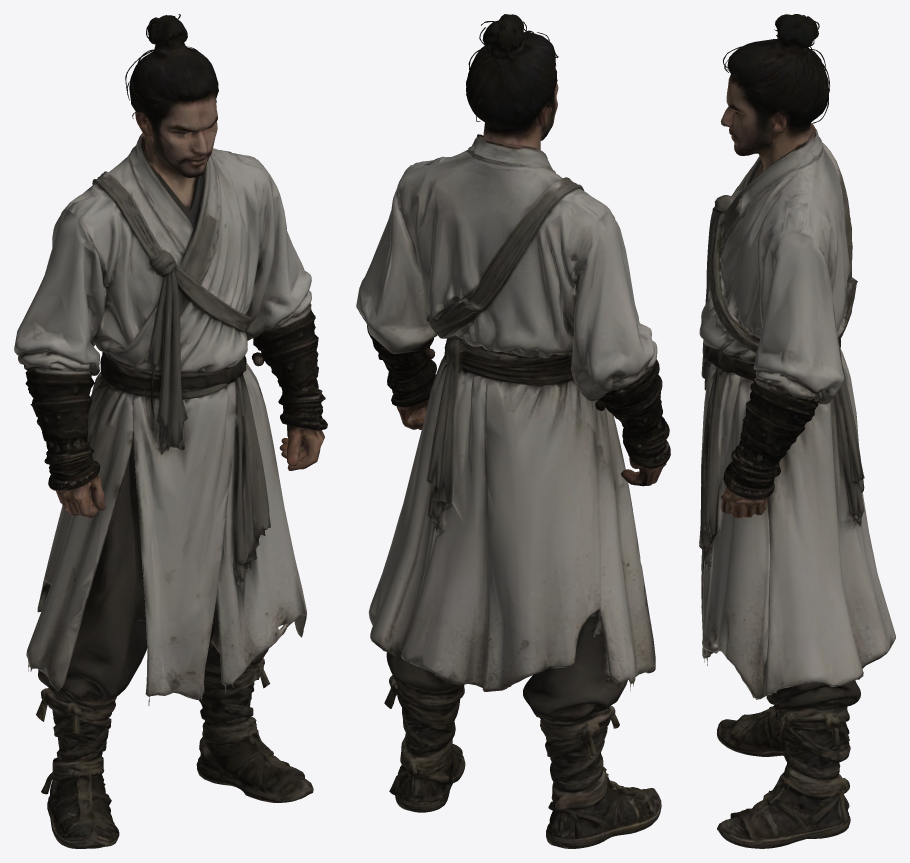
Rendered from white-swordsman-compact.glb.
3 views of the same model, side by side, from view 1: azimuth 30°, elevation 25°; view 2: azimuth 150°, elevation 25°; view 3: azimuth 270°, elevation 25° (orthographic).
Visible parts, largest first — view 1: node_0; view 2: node_0; view 3: node_0.
Boxes of the visible parts, left/top/right/bottom form: node_0: left=14, top=14, right=327, bottom=848; node_0: left=356, top=14, right=670, bottom=848; node_0: left=699, top=14, right=895, bottom=848.
Bounding box in the file's own units: 0.4386 × 1.14 × 0.2612.
Materials: 1 (1 with a texture image).
